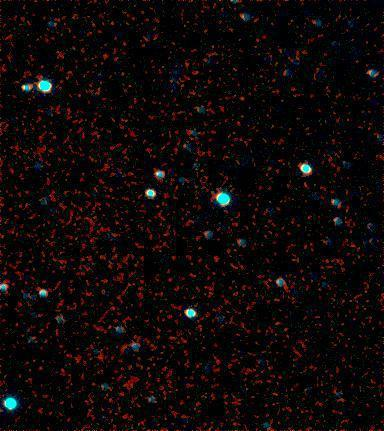star: (87, 341, 117, 371)
